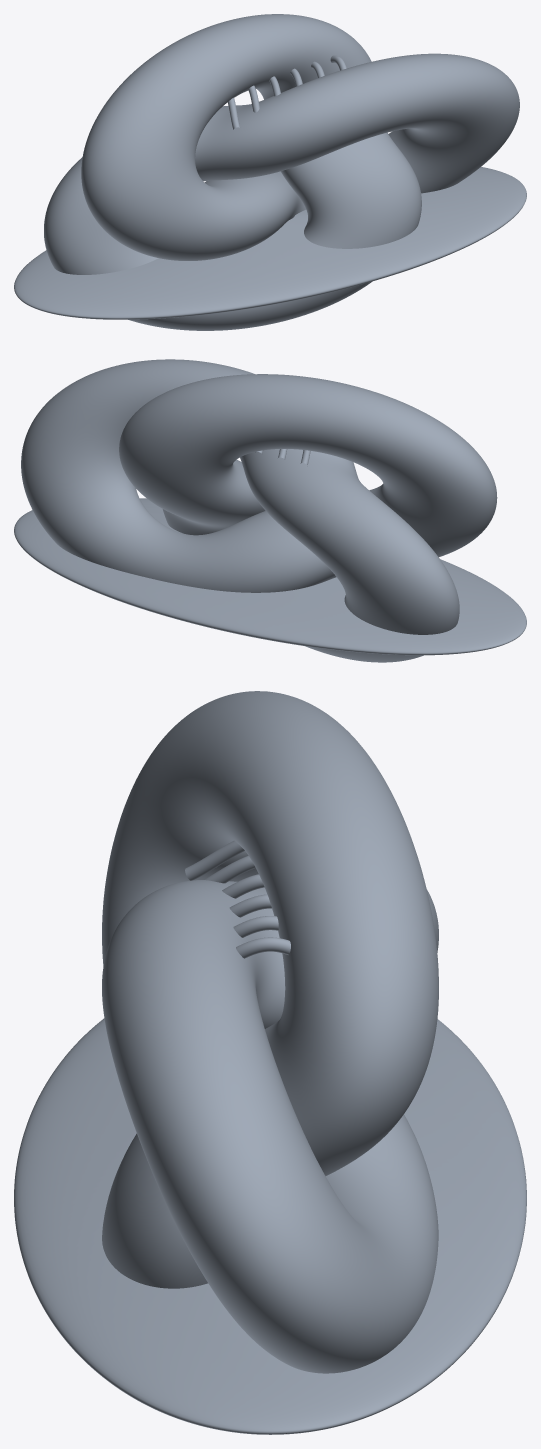
File: shoe.glb
3 renders of one model, top to bottom at view 1: azimuth 30°, elevation 25°; view 2: azimuth 150°, elevation 25°; view 3: azimuth 270°, elevation 25°, orthographic. The views are drawn at different scales.
Bounding box in the file's own units: 5.46 × 2.93 × 2.52.
